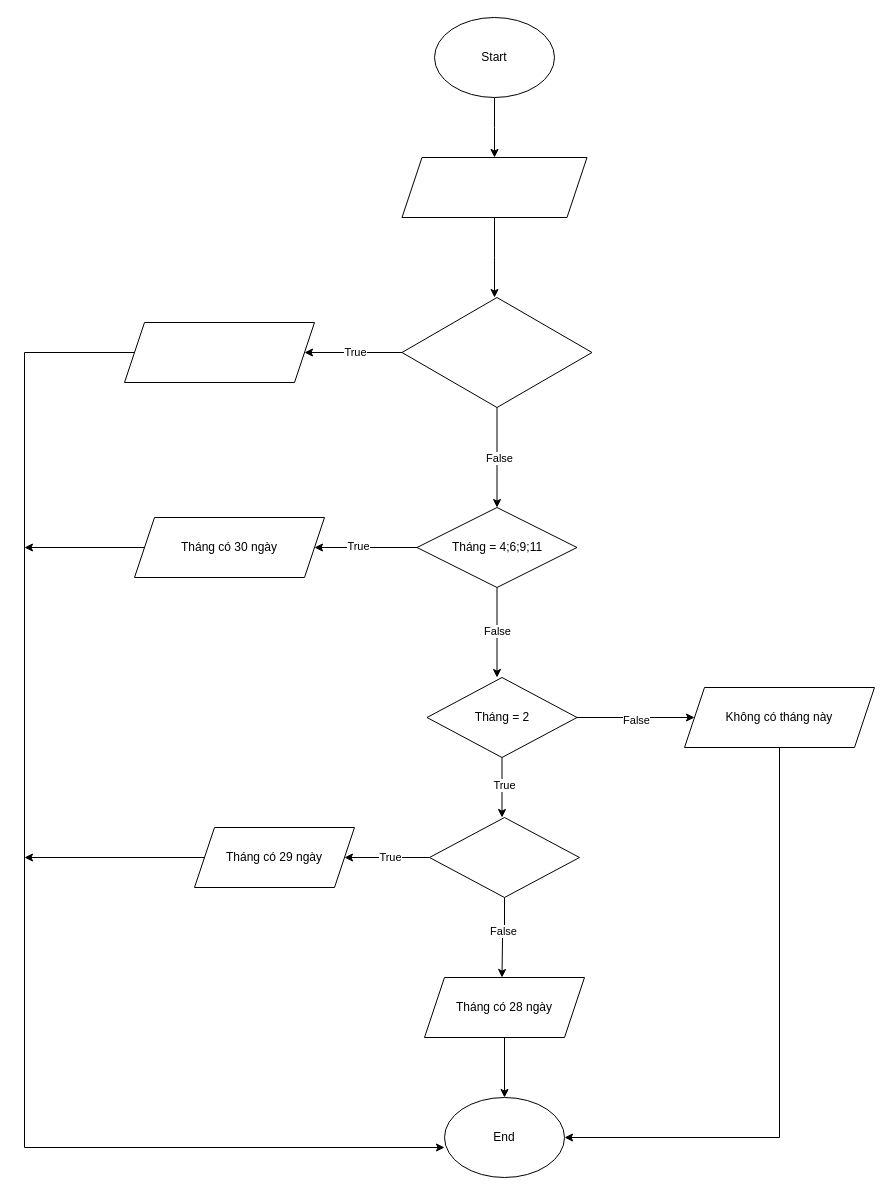
The diagram is 892 pixels wide and 1195 high, and some of its shapes have lost their labels. The shapes that lost their labels are listed below. From the top down, each one's centre as x and y in pixels, then its label:
At [494,187]: "Nhap: năm, tháng".
At [219,352]: "Tháng có 31 ngày".
At [496,352]: "Tháng=1;3;5;7;8;10;12".
At [504,857]: "Năm / 4 = 0".
